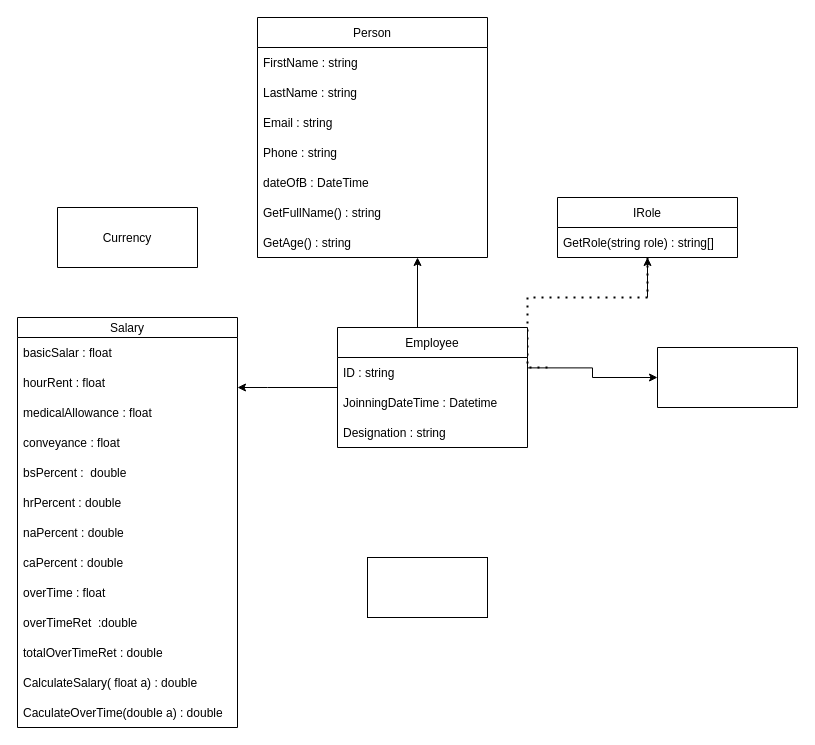
The diagram is 815 pixels wide and 745 high, and some of its shapes have lost their labels. The shapes that lost their labels are listed below. From the top down, each one's centre as x and y in pixels, then its label:
At (x=727, y=377): "Designation".
At (x=427, y=587): "Program".
